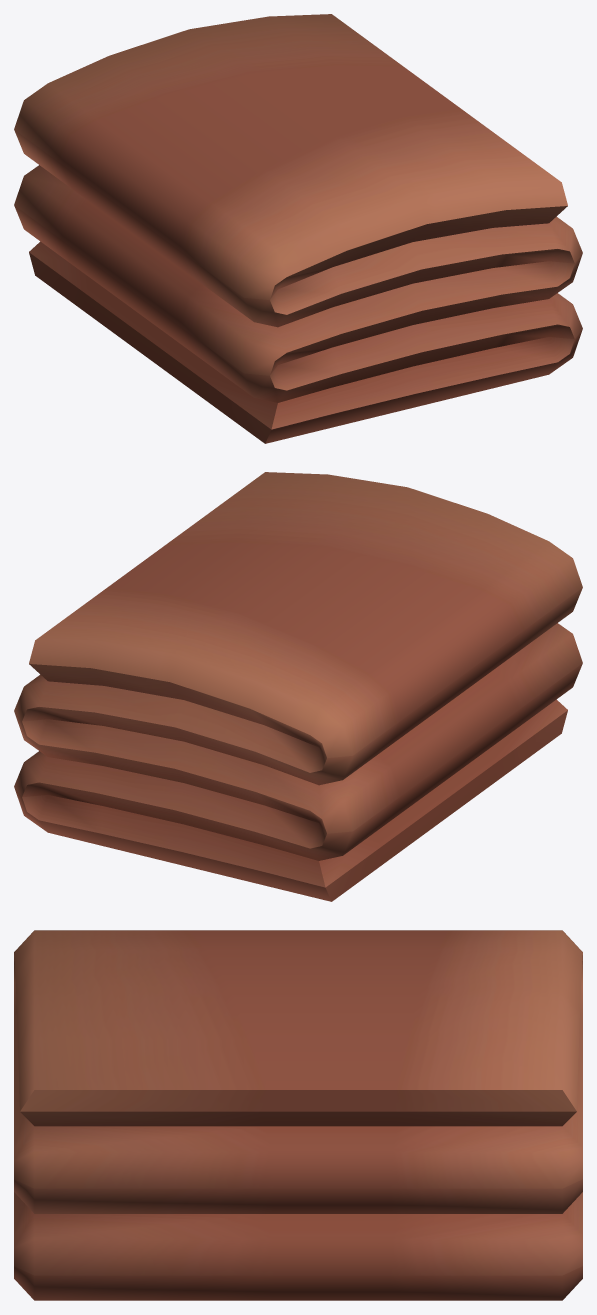
Rendered from tyg.glb.
The picture shows the model from 3 angles, top to bottom: view 1: azimuth 30°, elevation 25°; view 2: azimuth 150°, elevation 25°; view 3: azimuth 270°, elevation 25°; orthographic projection. The views are drawn at different scales.
Parts seen in each view (by area): view 1: Textiles_A; view 2: Textiles_A; view 3: Textiles_A.
Part boxes in pixels (left/top/right/bottom): Textiles_A: left=14, top=14, right=582, bottom=443; Textiles_A: left=14, top=472, right=582, bottom=901; Textiles_A: left=14, top=930, right=582, bottom=1300.
Size of the model in its own units: 0.7501 by 0.4413 by 0.95.
1 material, 1 textured.
